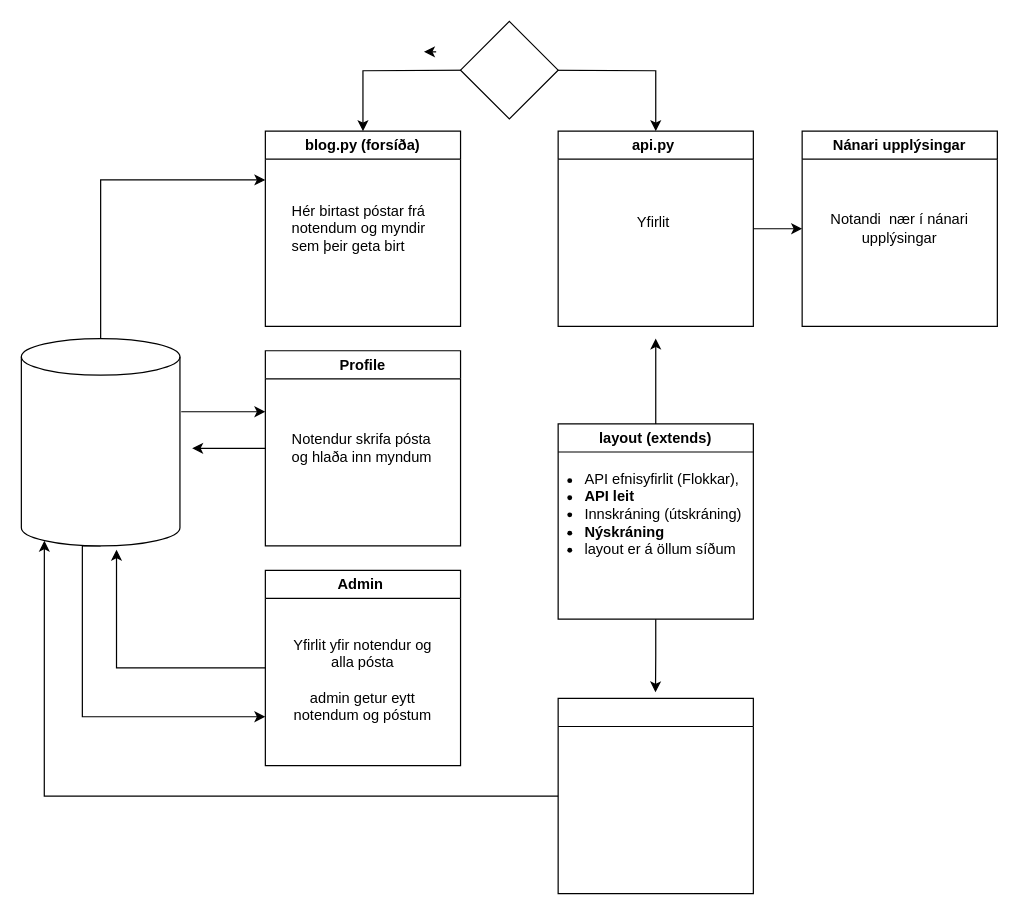
Image size: 1019x915. Some labels were removed from this diagram. The centre of each missing label's shape, as x and y in pixels:
app.py: (508,69)
json .users .posts: (100,441)
Nýskráning: (655,795)
